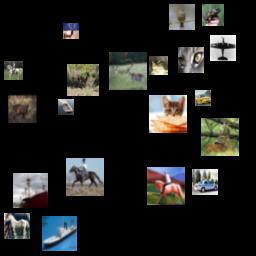airplane: (210, 35, 236, 61)
automobile: (192, 169, 218, 195), (195, 90, 211, 106)
bird: (169, 4, 195, 30)
cat: (149, 95, 187, 133), (178, 47, 204, 73)
deer: (201, 118, 239, 156), (109, 52, 147, 90), (67, 64, 99, 96), (8, 94, 37, 123), (63, 23, 79, 39)
frog: (202, 4, 224, 26), (149, 56, 168, 75)
ship: (42, 216, 77, 251), (13, 173, 48, 208), (58, 99, 74, 115)
